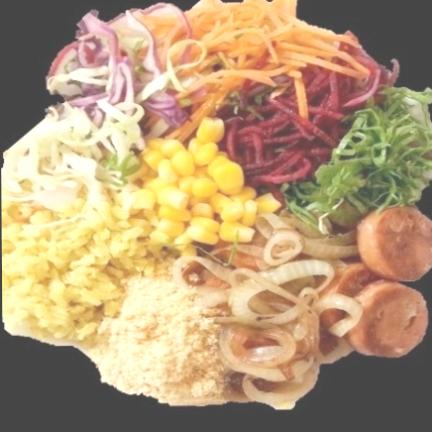carrot: (130, 0, 347, 115)
corn: (113, 118, 281, 260)
rice: (1, 178, 170, 352)
salad: (1, 12, 201, 210)
sausage: (183, 205, 432, 412)
